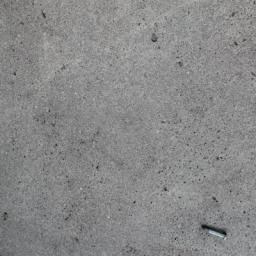FOD: (198, 223, 232, 243)
